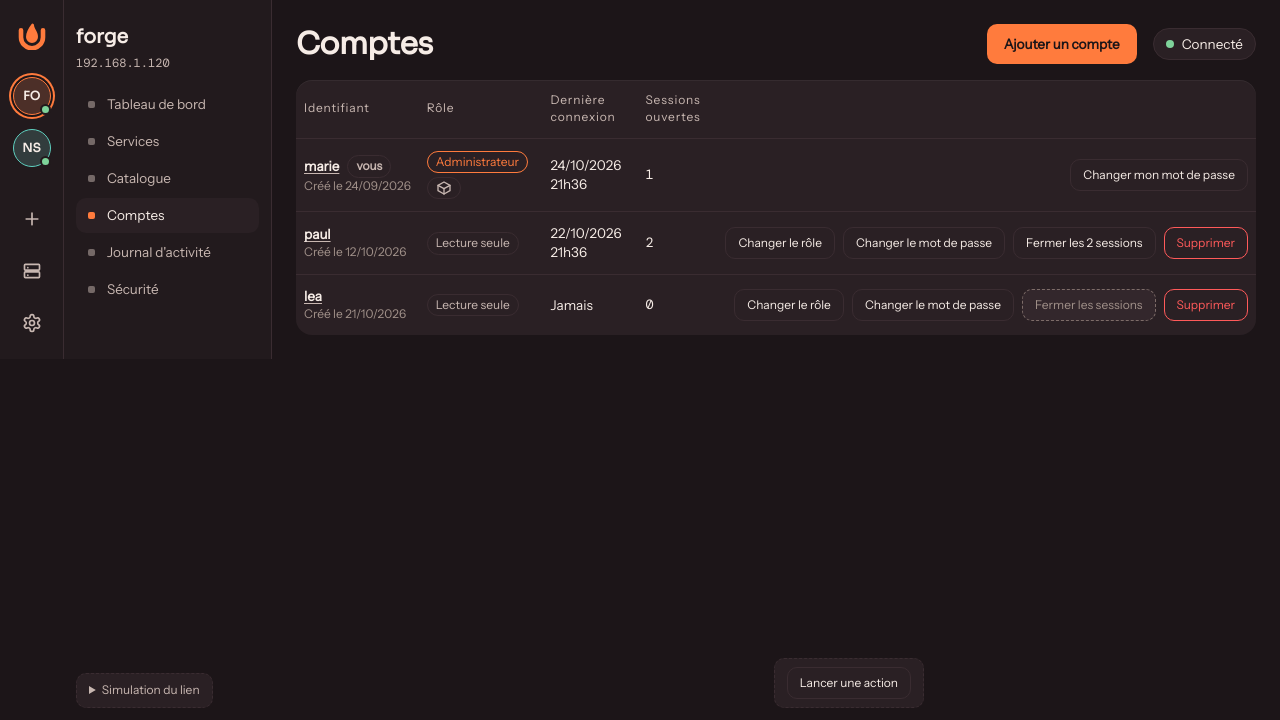
Comptes (administrateurs) › closes the sessions of an account after a confirmation that names it, and says so
The width and height of the screenshot is (1280, 720).
Click the button "Fermer les 2 sessions" at (1084, 243), box top-left (1013, 227), bottom-right (1156, 259)
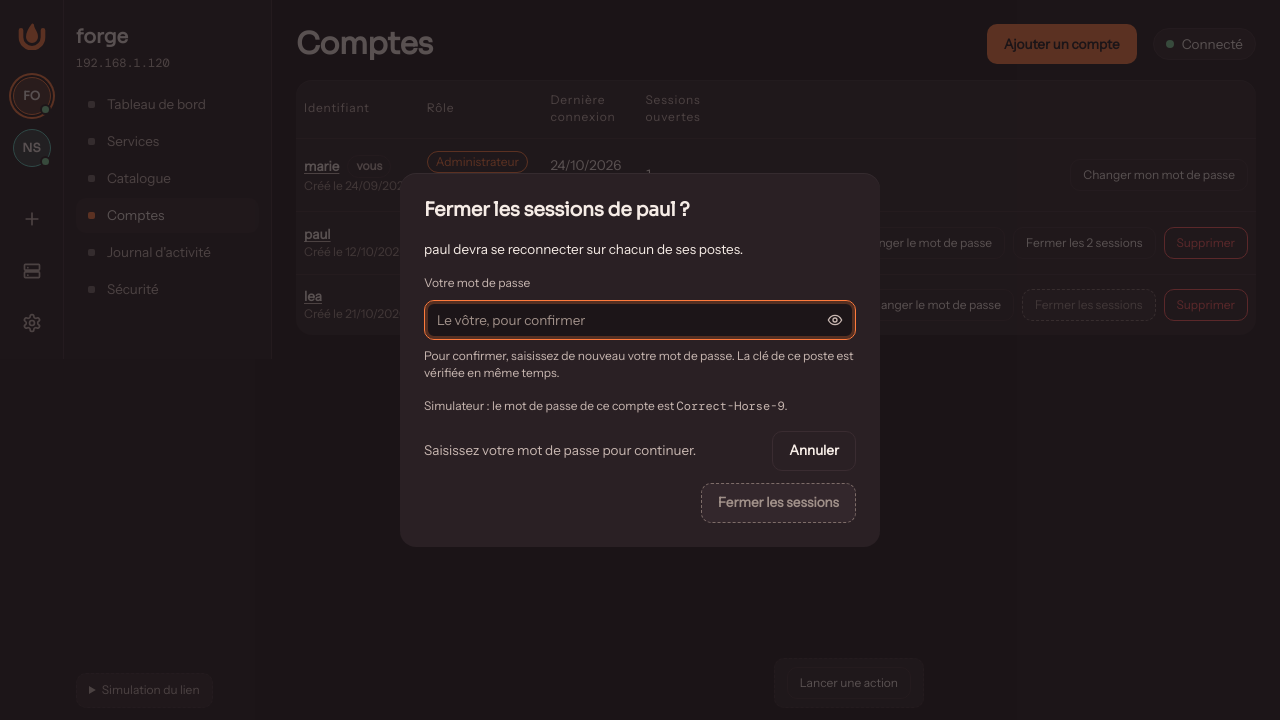
expect the text "Fermer les sessions de paul ?" is shown: met, box top-left (424, 198), bottom-right (689, 222)
Type "Correct-Horse-9" into the password field labelled "Votre mot de passe" at (620, 320), box top-left (425, 300), bottom-right (815, 339)
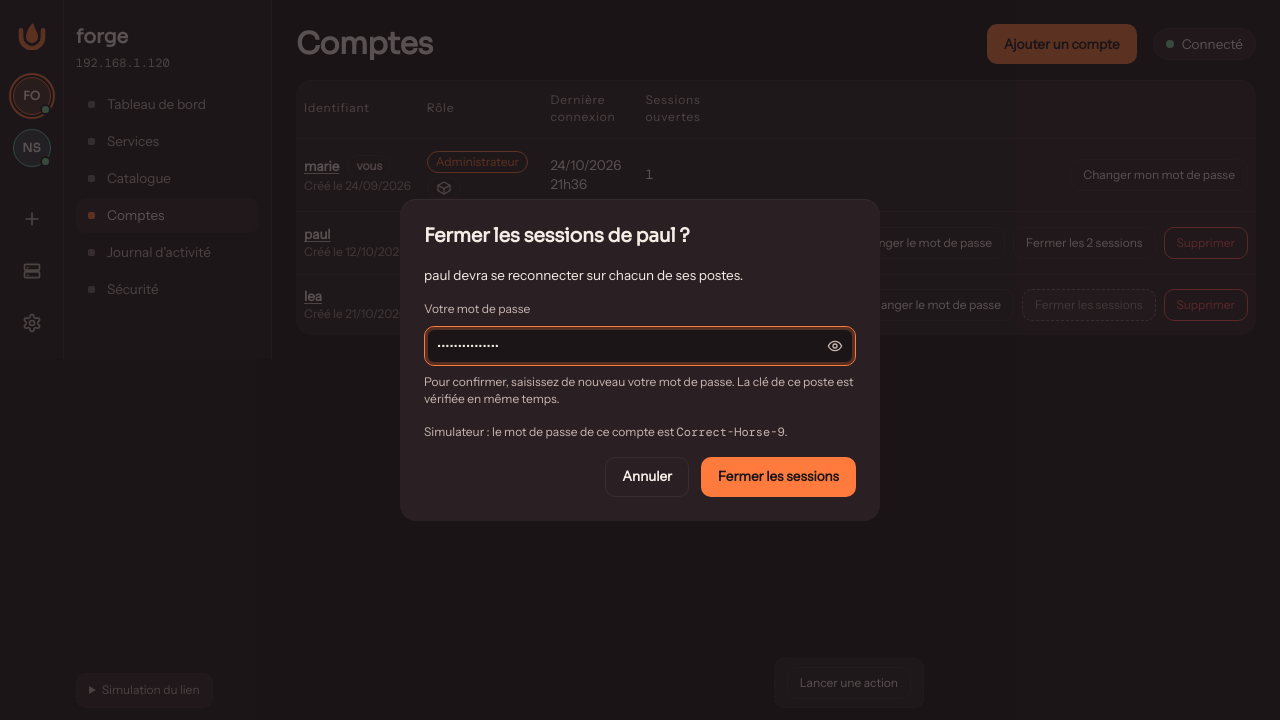
Click the button "Fermer les sessions" at (779, 477), box top-left (701, 457), bottom-right (856, 497)
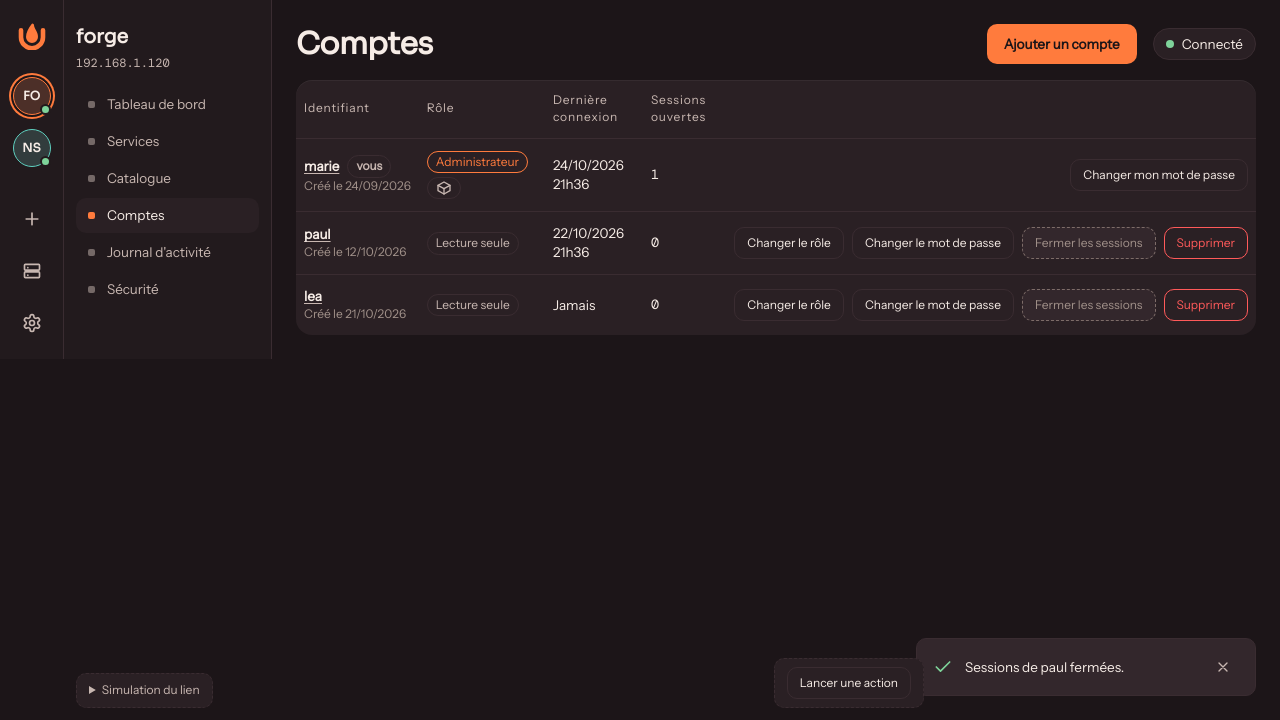
expect the cell "0" in the row of "Créé le 12/10/2026" is shown: met, box top-left (651, 234), bottom-right (659, 251)
